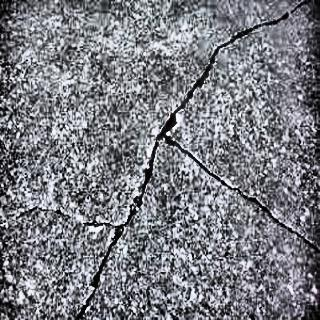crack: (162, 8, 316, 132), (189, 134, 311, 253), (55, 223, 137, 320), (122, 113, 172, 232), (18, 201, 94, 223)
